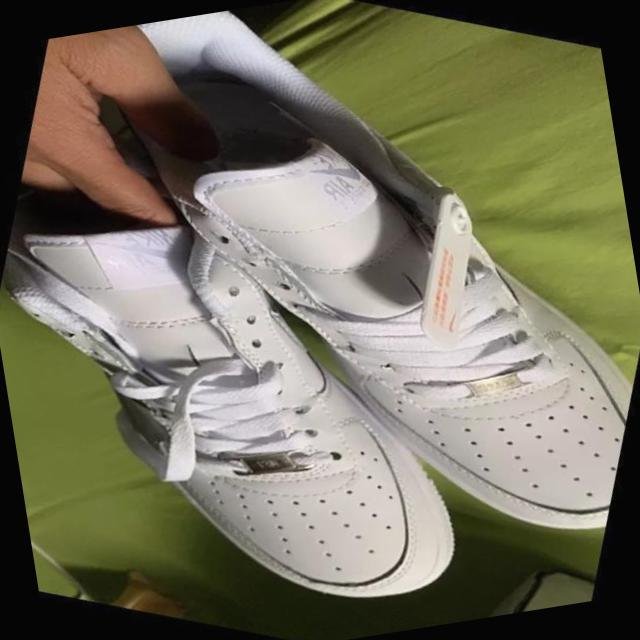nike_fake_airforce: (0, 0, 640, 627), (0, 106, 561, 640)
